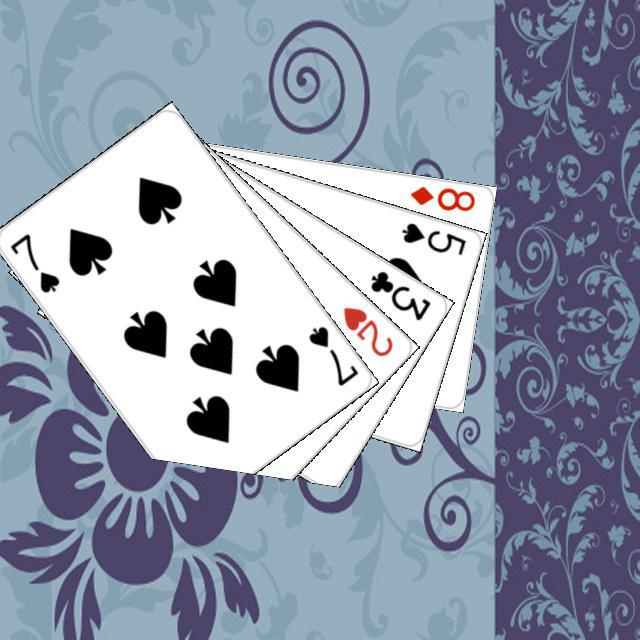2h: (338, 301, 395, 359)
3c: (365, 266, 433, 323)
5s: (396, 217, 468, 257)
7s: (303, 321, 360, 388), (5, 228, 62, 295)
8d: (405, 181, 477, 213)
